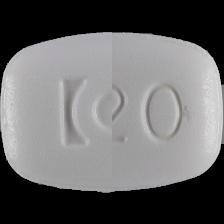63459-220: (0, 0, 224, 224)
